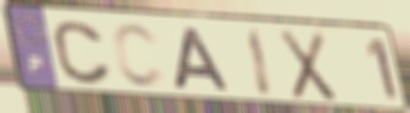1: (363, 37, 401, 105)
A: (170, 26, 235, 94)
C: (49, 19, 115, 87), (110, 21, 169, 92)
I: (245, 26, 276, 100)
X: (277, 27, 340, 104)
